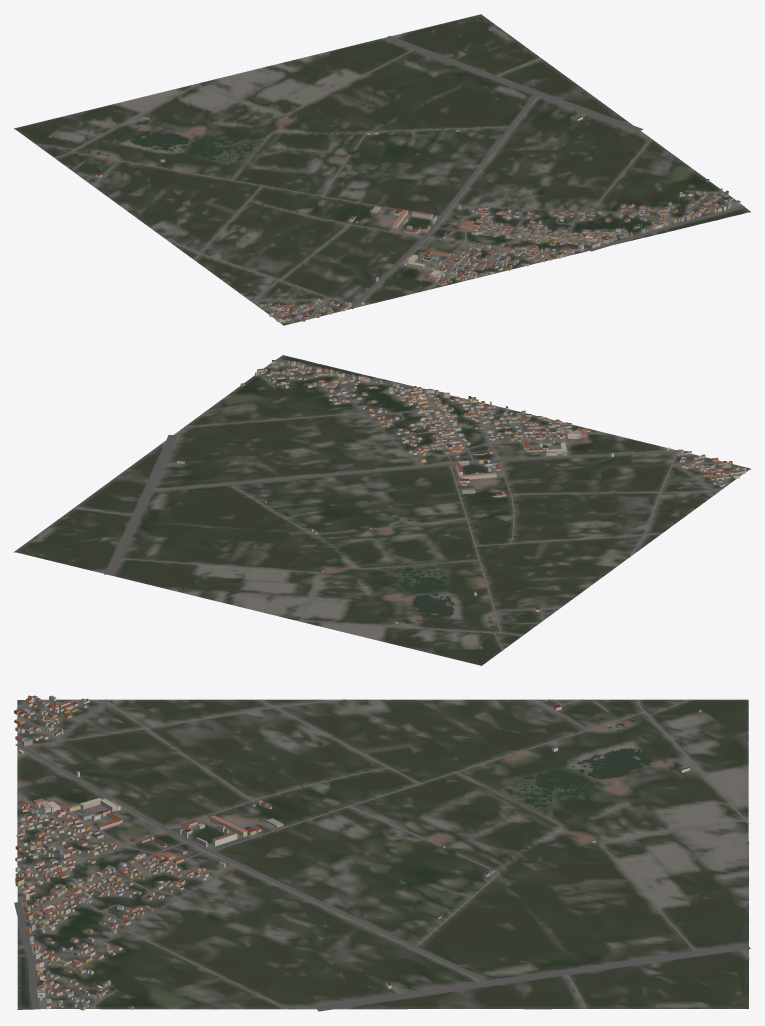
3 renders of one model, top to bottom at view 1: azimuth 30°, elevation 25°; view 2: azimuth 150°, elevation 25°; view 3: azimuth 270°, elevation 25°, orthographic. The views are drawn at different scales.
Visible parts, largest first — view 1: ground, buildings, roads, water; view 2: ground, buildings, roads, water; view 3: ground, buildings, roads, water.
Boxes of the visible parts, x1,y1,x2,y2 form: ground: [14, 14, 750, 325]; buildings: [49, 116, 740, 322]; roads: [35, 32, 745, 322]; water: [87, 131, 740, 219]; ground: [14, 355, 750, 665]; buildings: [177, 360, 746, 648]; roads: [74, 358, 746, 650]; water: [292, 357, 493, 627]; ground: [17, 699, 748, 1009]; buildings: [14, 695, 701, 1010]; roads: [14, 699, 750, 1011]; water: [18, 720, 654, 1003].
Bounding box in the file's own units: 1420 × 17.21 × 1412.
